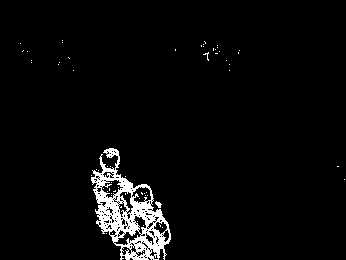person: (88, 148, 135, 254), (122, 184, 170, 260)
